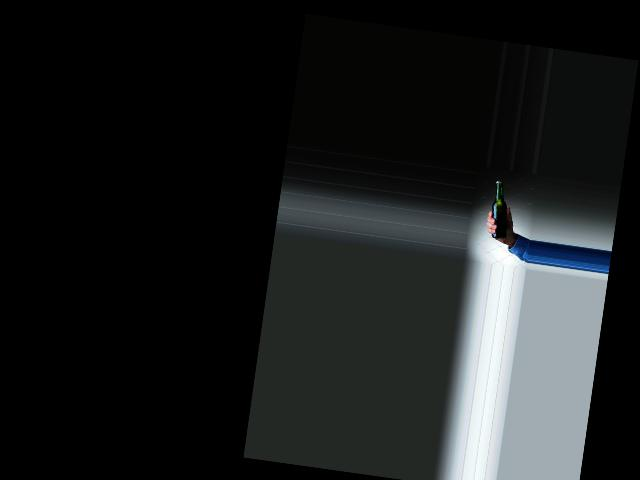beer: (487, 181, 514, 239)
